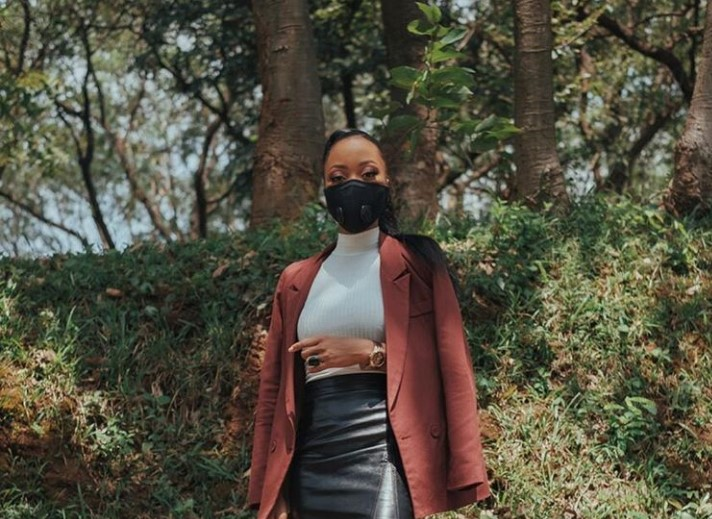face_with_mask: (319, 127, 396, 233)
